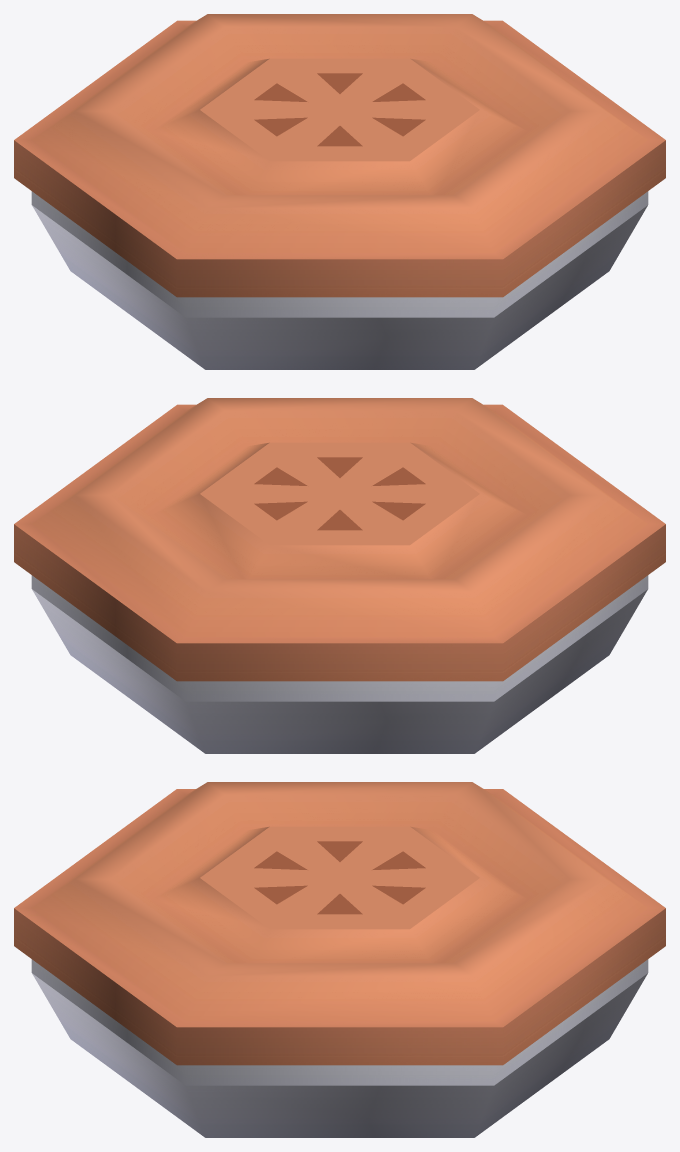
The model's file is mincemeat-pie.glb.
3 renders of one model, top to bottom at view 1: azimuth 30°, elevation 25°; view 2: azimuth 150°, elevation 25°; view 3: azimuth 270°, elevation 25°, orthographic.
Parts seen in each view (by area): view 1: mincemeat-pie; view 2: mincemeat-pie; view 3: mincemeat-pie.
Part boxes in pixels (<box>): mincemeat-pie: <box>14,14,665,369</box>; mincemeat-pie: <box>14,398,665,753</box>; mincemeat-pie: <box>14,782,665,1137</box>.
Bounding box in the file's own units: 0.5309 × 0.1673 × 0.6131.
1 material, 1 textured.
